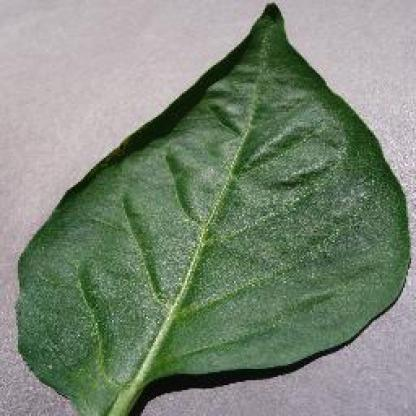bad leaf: (18, 1, 414, 414)
